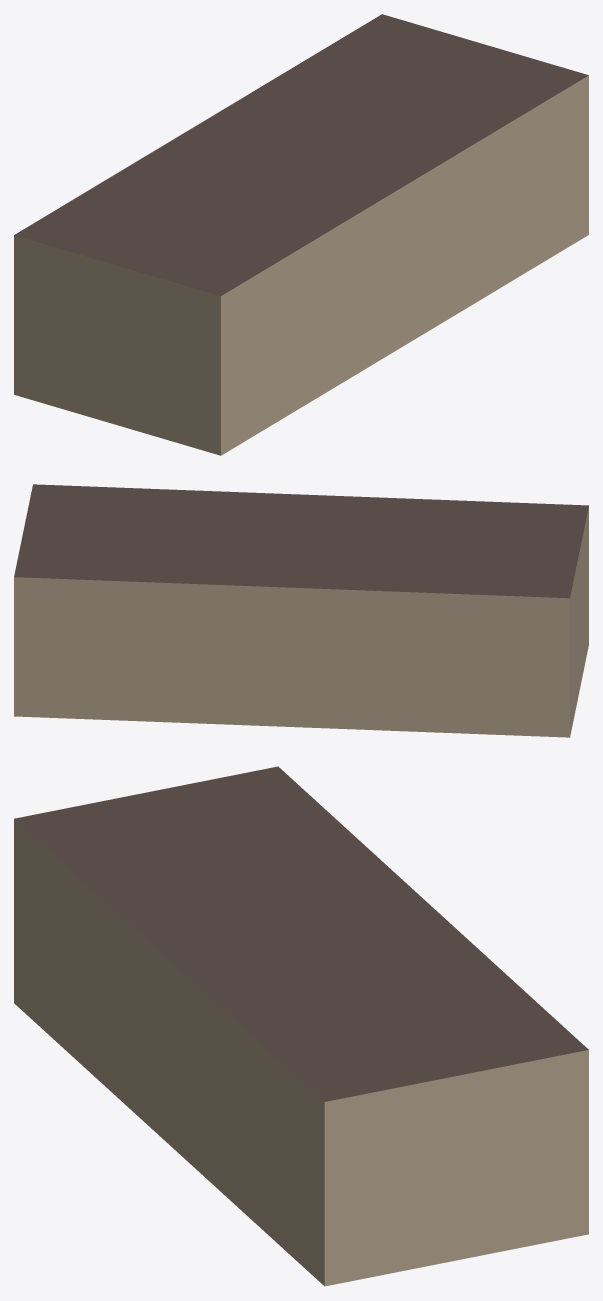
3 renders of one model, top to bottom at view 1: azimuth 30°, elevation 25°; view 2: azimuth 150°, elevation 25°; view 3: azimuth 270°, elevation 25°, orthographic. The views are drawn at different scales.
Visible parts, largest first — view 1: HP-w859488749; view 2: HP-w859488749; view 3: HP-w859488749.
Part boxes in pixels (box(x1,y1,x2,y2)): HP-w859488749: box(14, 14, 588, 455); HP-w859488749: box(14, 484, 588, 737); HP-w859488749: box(14, 766, 588, 1286).
Bounding box in the file's own units: 35.11 × 9 × 25.42.
